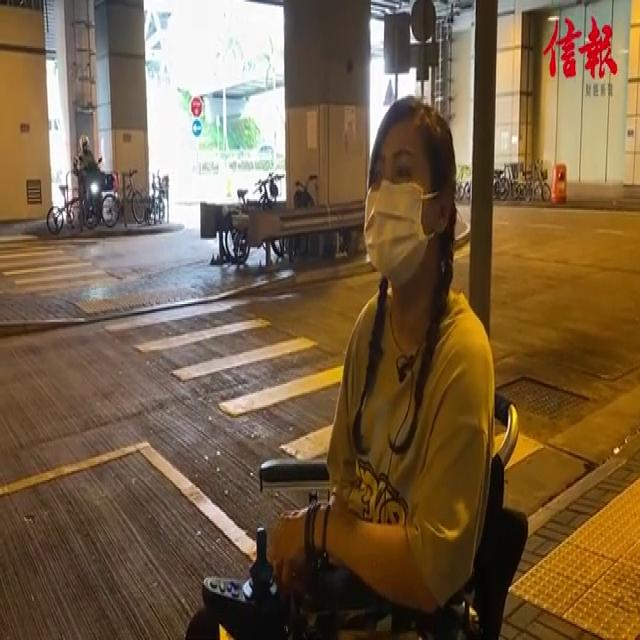wheelchairs: (203, 357, 531, 639)
